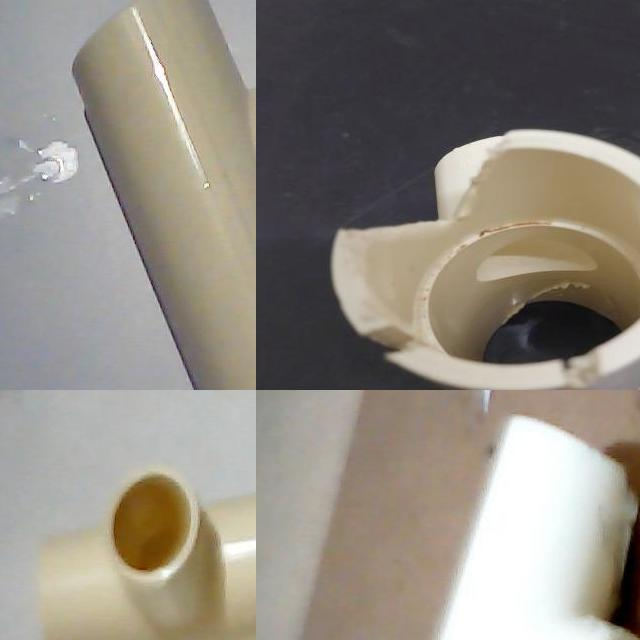Defective: (317, 138, 521, 275), (352, 310, 431, 390), (555, 345, 640, 390)
T Joint: (71, 0, 256, 390), (437, 416, 640, 640), (36, 465, 256, 640)
